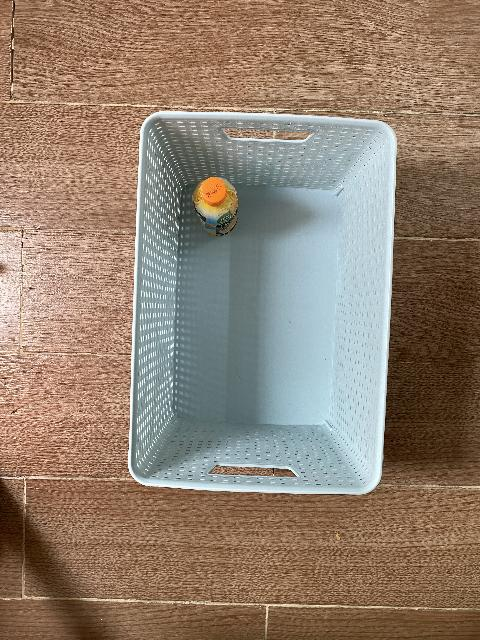cart: (127, 111, 398, 496)
teppy_orange_juice: (192, 177, 239, 237)
